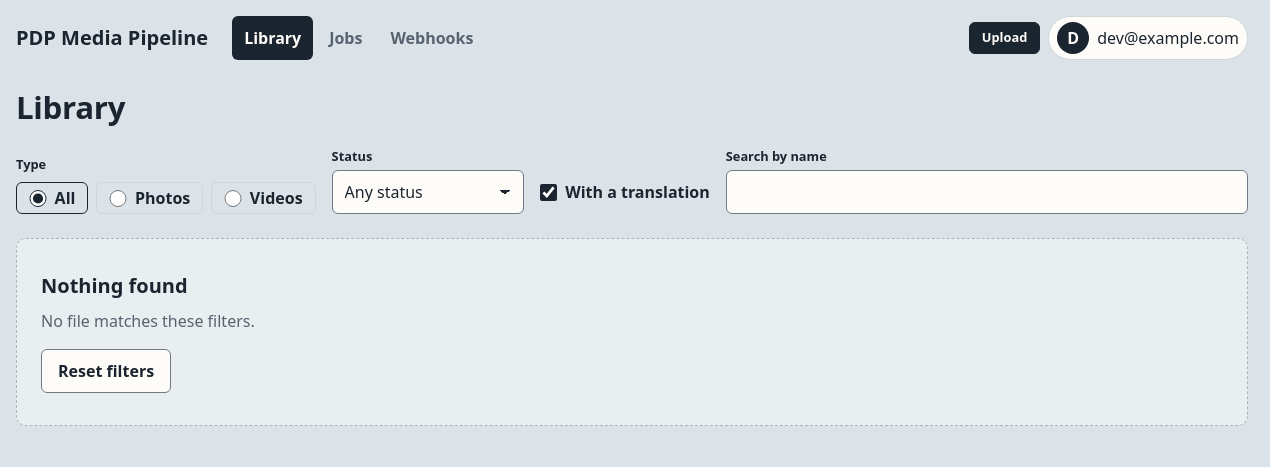
Test: library › resets the translation filter with the others
Expected: the checkbox labelled "With a translation" is checked, left=540, top=184, right=557, bottom=201
Click the button "Reset filters" at (106, 371), box left=41, top=349, right=171, bottom=393
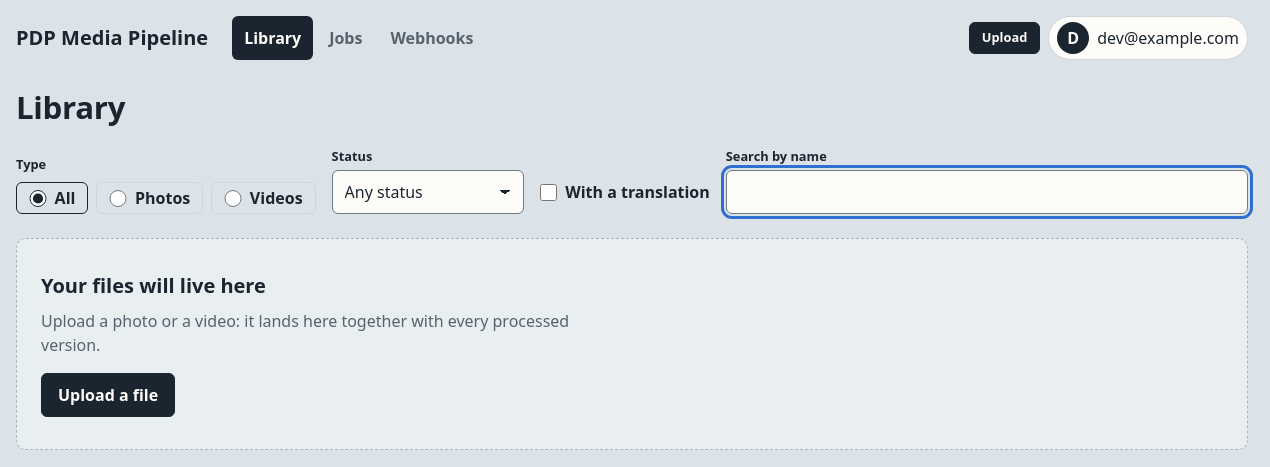
Expected: the checkbox labelled "With a translation" is not checked, left=540, top=184, right=557, bottom=201
